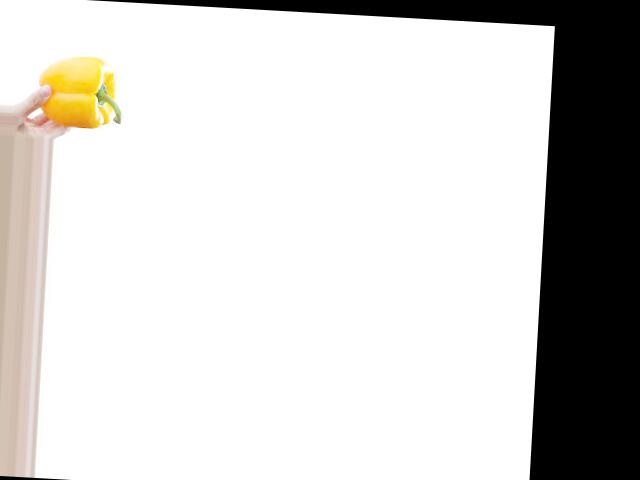bell_pepper: (34, 52, 129, 130)
